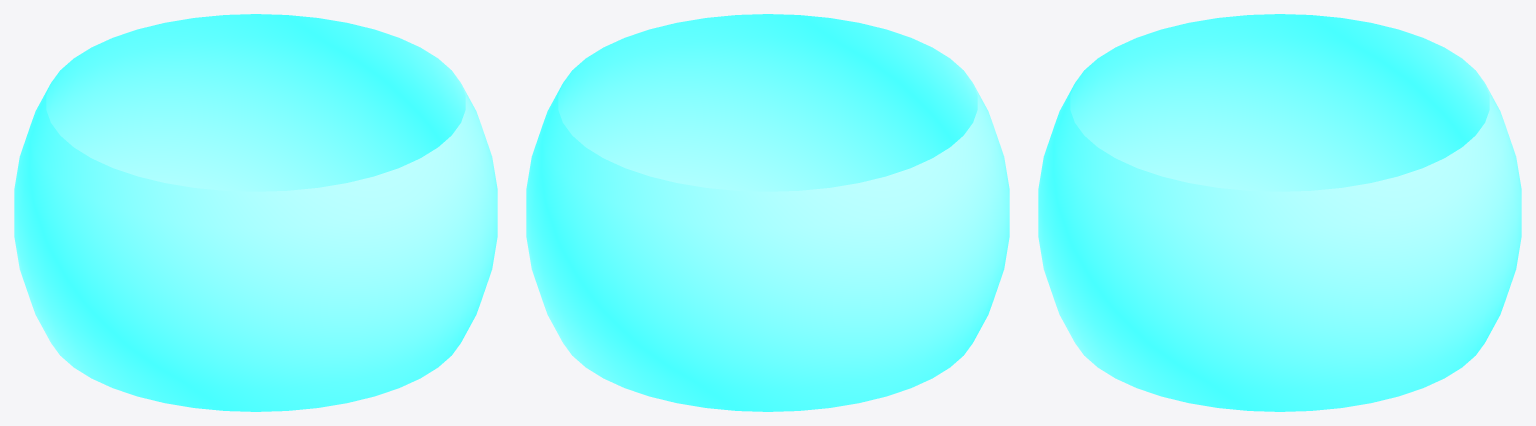
File: ClaimBlockerShield_v01.fbx
3 renders of one model, left to right at view 1: azimuth 30°, elevation 25°; view 2: azimuth 150°, elevation 25°; view 3: azimuth 270°, elevation 25°, orthographic.
Visible parts, largest first — view 1: ClaimBlockerShieldOut, ClaimBlockerShieldIn; view 2: ClaimBlockerShieldOut, ClaimBlockerShieldIn; view 3: ClaimBlockerShieldOut, ClaimBlockerShieldIn.
Boxes of the visible parts, x1=… form: ClaimBlockerShieldOut: x1=14, y1=14, x2=497, y2=411; ClaimBlockerShieldIn: x1=15, y1=14, x2=497, y2=409; ClaimBlockerShieldOut: x1=526, y1=14, x2=1009, y2=411; ClaimBlockerShieldIn: x1=527, y1=14, x2=1009, y2=408; ClaimBlockerShieldOut: x1=1038, y1=14, x2=1521, y2=411; ClaimBlockerShieldIn: x1=1038, y1=14, x2=1521, y2=409.
Bounding box in the file's own units: 104 × 52.27 × 104.
